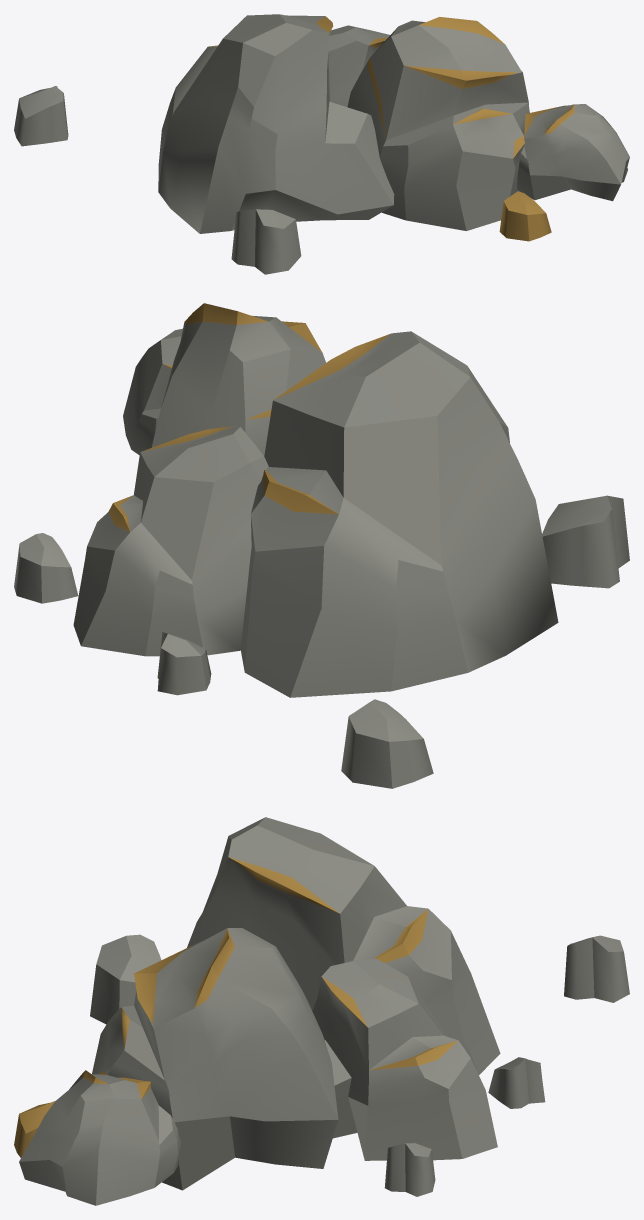
The model's file is quaternius-ultimate-fantasy-rts-resource-gold-2.glb.
3 views of the same model, one above another, from view 1: azimuth 30°, elevation 25°; view 2: azimuth 150°, elevation 25°; view 3: azimuth 270°, elevation 25° (orthographic). The views are drawn at different scales.
Parts seen in each view (by area): view 1: Resource_Gold_2; view 2: Resource_Gold_2; view 3: Resource_Gold_2.
Boxes of the visible parts, box(x1,y1,x2,y2) form: Resource_Gold_2: box(14, 14, 629, 274); Resource_Gold_2: box(14, 303, 629, 788); Resource_Gold_2: box(14, 817, 629, 1205).
Size of the model in its own units: 0.6982 by 0.3006 by 0.7151.
